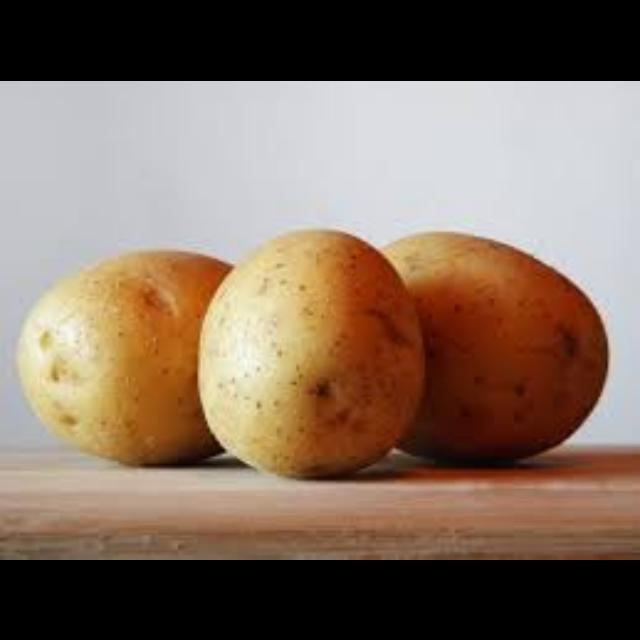Potato: (336, 220, 614, 478), (16, 242, 306, 473), (190, 220, 432, 490)
